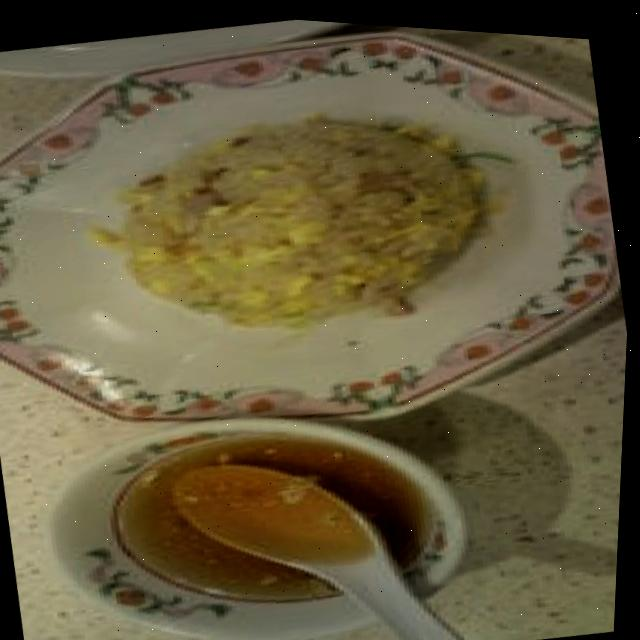汤锅炖物: (0, 357, 510, 640)
米饭主食: (0, 0, 632, 480)
